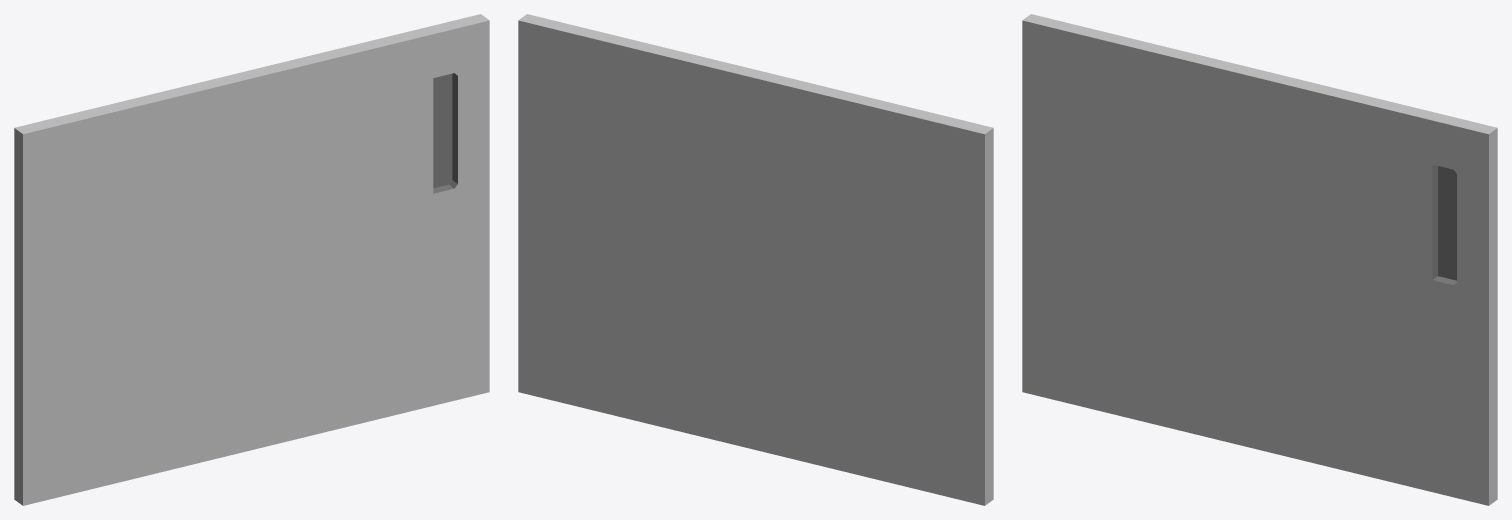
File: desk-drawer-2.glb
3 views of the same model, side by side, from view 1: azimuth 30°, elevation 25°; view 2: azimuth 150°, elevation 25°; view 3: azimuth 330°, elevation 25° (orthographic).
Visible parts, largest first — view 1: Desk_Drawer_2; view 2: Desk_Drawer_2; view 3: Desk_Drawer_2.
Part boxes in pixels (bbox=[...]): Desk_Drawer_2: bbox=[14, 14, 489, 505]; Desk_Drawer_2: bbox=[518, 14, 993, 505]; Desk_Drawer_2: bbox=[1022, 14, 1497, 505].
Bounding box in the file's own units: 93.62 × 71.26 × 3.07.
Materials: 1 (1 with a texture image).
